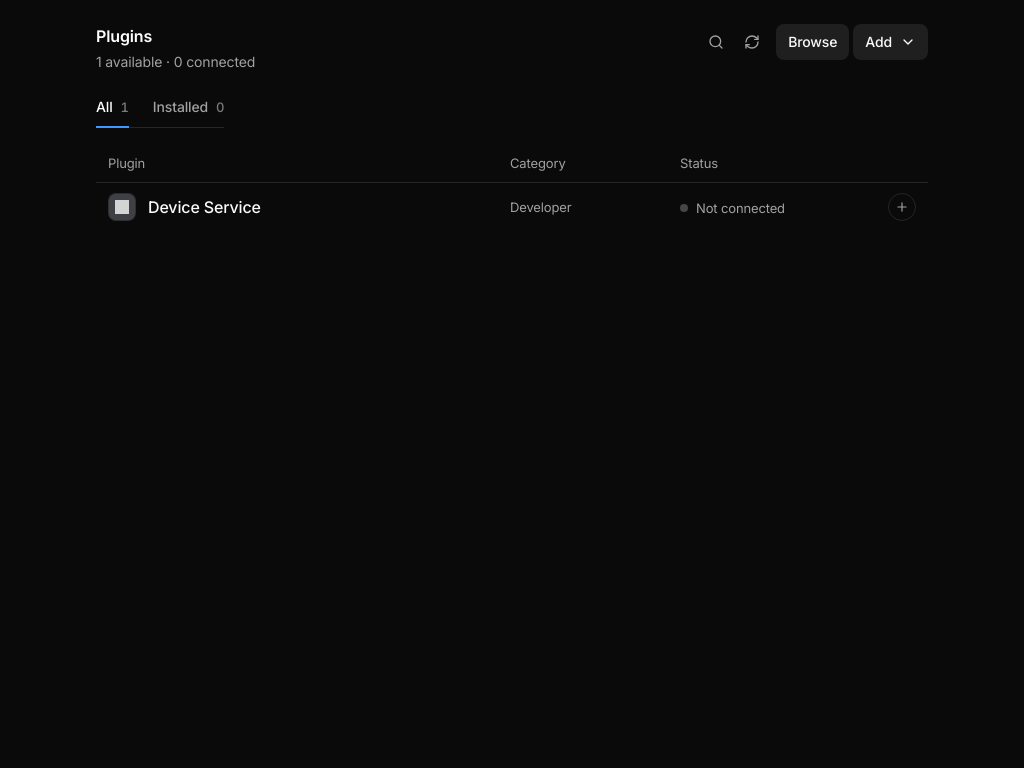
Scenario: PluginsView publishes every supported connection path immediately › publishes a device-flow connection before revalidation finishes
What coordinates should you click on to do the following:
click the button named "Connect plugin"
I would click on:
 (902, 207)
Its box is [888, 193, 916, 221].
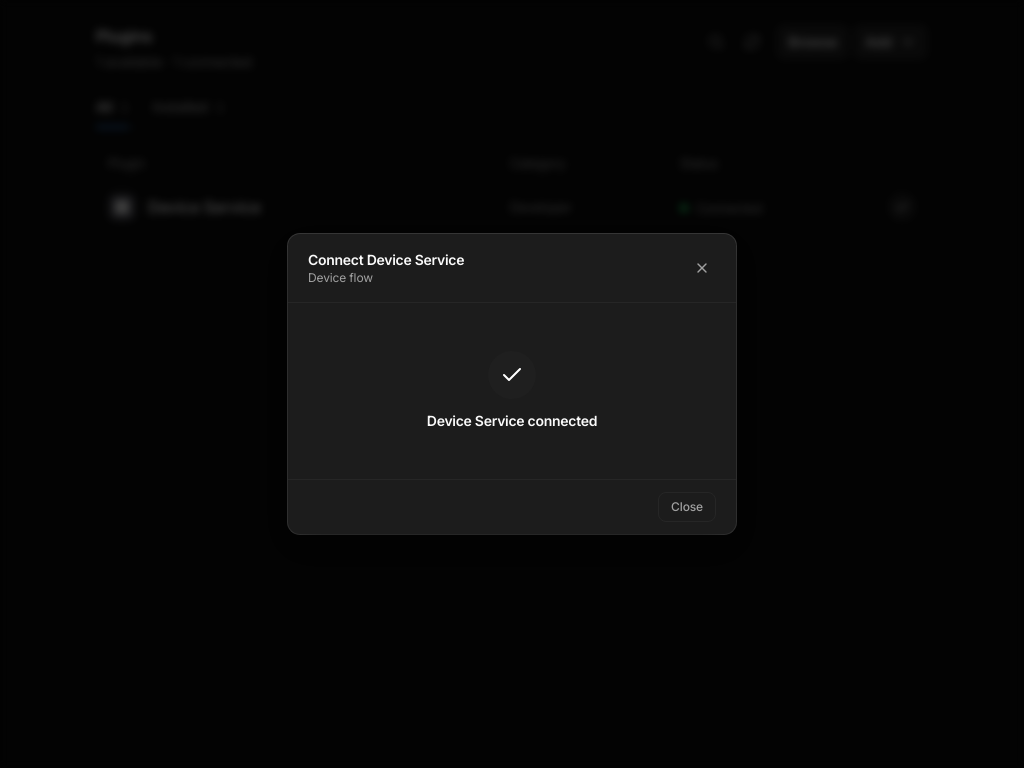
Now the text "Device Service connected" is shown, box [427, 411, 597, 431]
